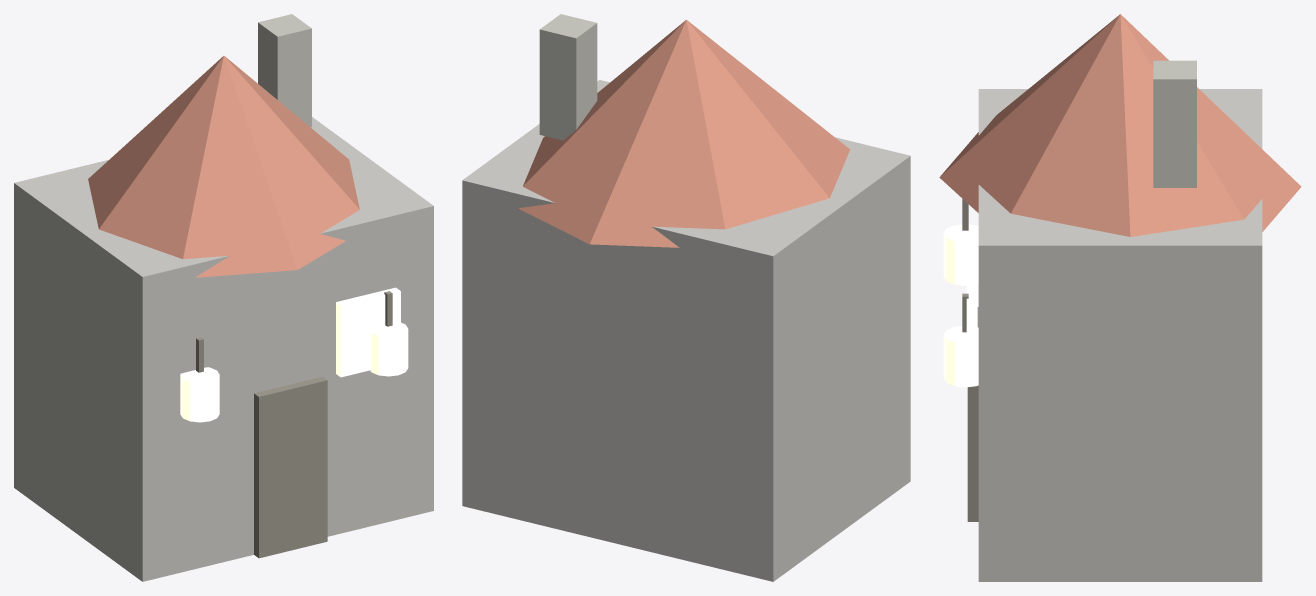
Rendered from LM05_Nuanling.glb.
The picture shows the model from 3 angles, left to right: view 1: azimuth 30°, elevation 25°; view 2: azimuth 150°, elevation 25°; view 3: azimuth 270°, elevation 25°; orthographic projection. The views are drawn at different scales.
Parts seen in each view (by area): view 1: House, Roof, Door, Chimney, Window, LanternL, LanternR; view 2: House, Roof, Chimney; view 3: House, Roof, Chimney, LanternL, LanternR, Door, Window.
Part boxes in pixels (bbox=[...]): House: bbox=[14, 117, 433, 581]; Roof: bbox=[88, 56, 359, 277]; Door: bbox=[254, 376, 327, 558]; Chimney: bbox=[258, 14, 311, 127]; Window: bbox=[336, 287, 400, 377]; LanternL: bbox=[180, 367, 219, 422]; LanternR: bbox=[370, 322, 408, 376]; House: bbox=[462, 80, 910, 581]; Roof: bbox=[518, 20, 850, 247]; Chimney: bbox=[539, 14, 597, 140]; House: bbox=[978, 89, 1262, 581]; Roof: bbox=[939, 14, 1301, 236]; Chimney: bbox=[1153, 60, 1196, 187]; LanternL: bbox=[943, 224, 978, 285]; LanternR: bbox=[943, 326, 978, 387]; Door: bbox=[967, 307, 978, 521]; Window: bbox=[966, 271, 977, 341].
Bounding box in the file's own units: 1.7 × 2.48 × 1.66.
